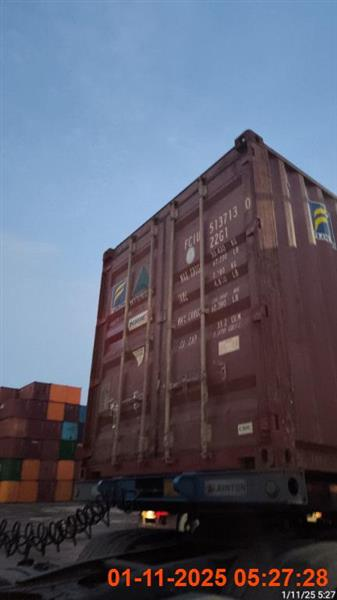broken: (76, 130, 336, 527)
